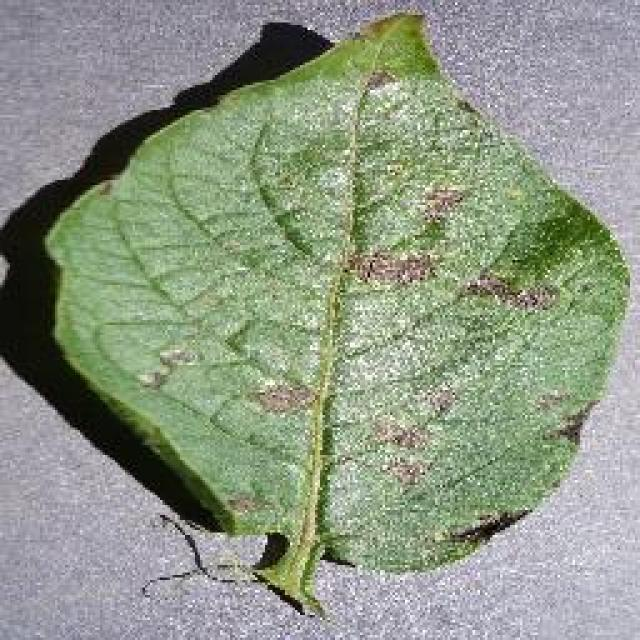early_blight: (37, 8, 635, 618)
